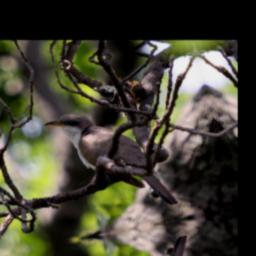Cuckoo: (40, 95, 180, 228)
